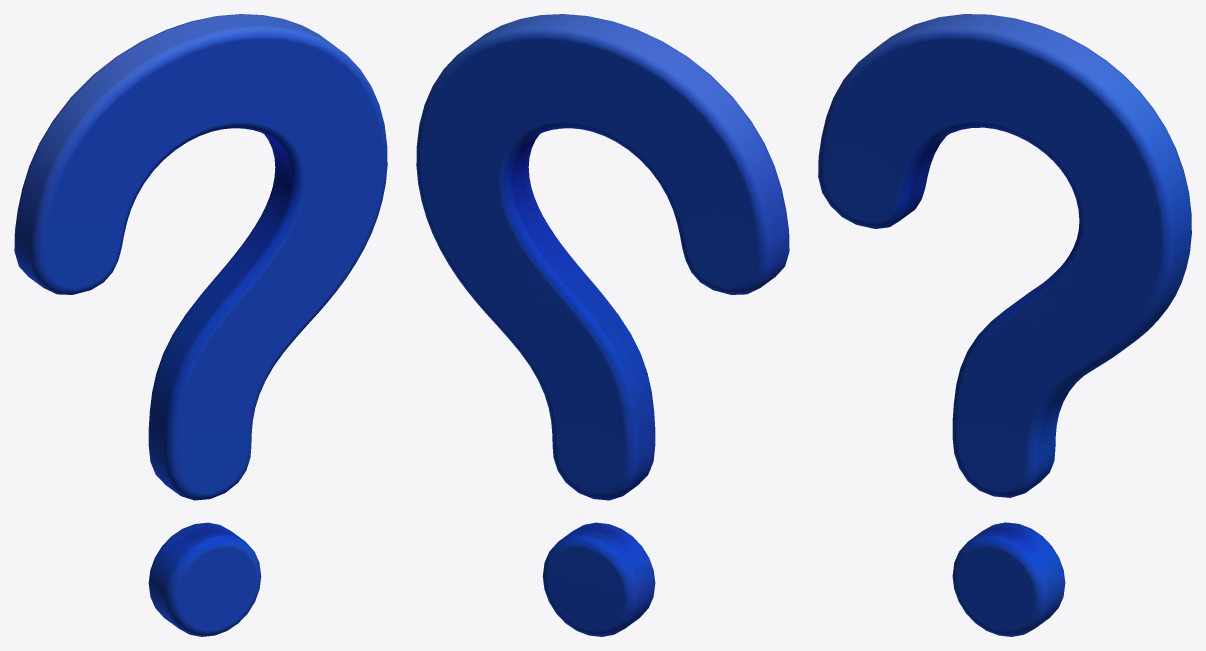
File: quest.glb
3 views of the same model, side by side, from view 1: azimuth 30°, elevation 25°; view 2: azimuth 150°, elevation 25°; view 3: azimuth 330°, elevation 25° (orthographic).
Parts seen in each view (by area): view 1: question_mark.1; view 2: question_mark.1; view 3: question_mark.1.
Boxes of the visible parts, x1,y1,x2,y2 form: question_mark.1: (14, 14, 387, 636); question_mark.1: (416, 14, 789, 636); question_mark.1: (818, 14, 1191, 636).
Bounding box in the file's own units: 0.1754 × 0.2843 × 0.022.
1 material, 1 textured.
